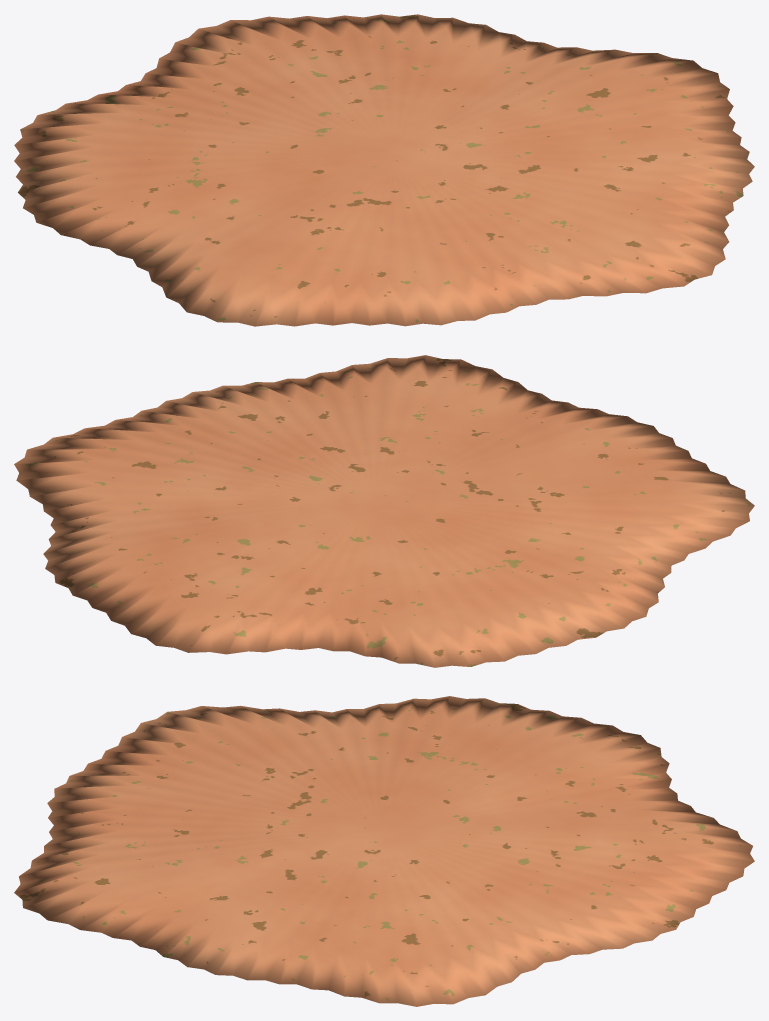
The model's file is spread.glb.
3 views of the same model, one above another, from view 1: azimuth 30°, elevation 25°; view 2: azimuth 150°, elevation 25°; view 3: azimuth 270°, elevation 25° (orthographic). The views are drawn at different scales.
Visible parts, largest first — view 1: spread; view 2: spread; view 3: spread.
Part boxes in pixels (x1,y1,x2,y2): spread: [14, 14, 754, 326]; spread: [14, 355, 754, 667]; spread: [14, 696, 754, 1006].
Bounding box in the file's own units: 0.9821 × 0.049 × 0.9892.
Materials: 1 (1 with a texture image).
